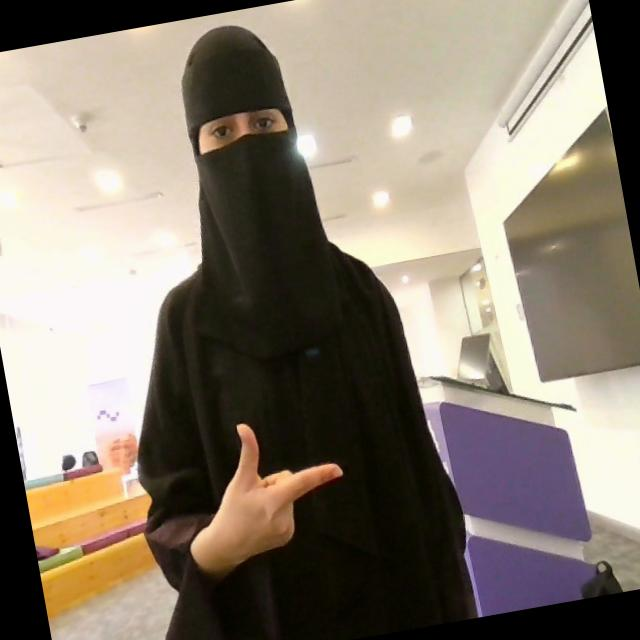dispensing: (168, 404, 356, 578)
